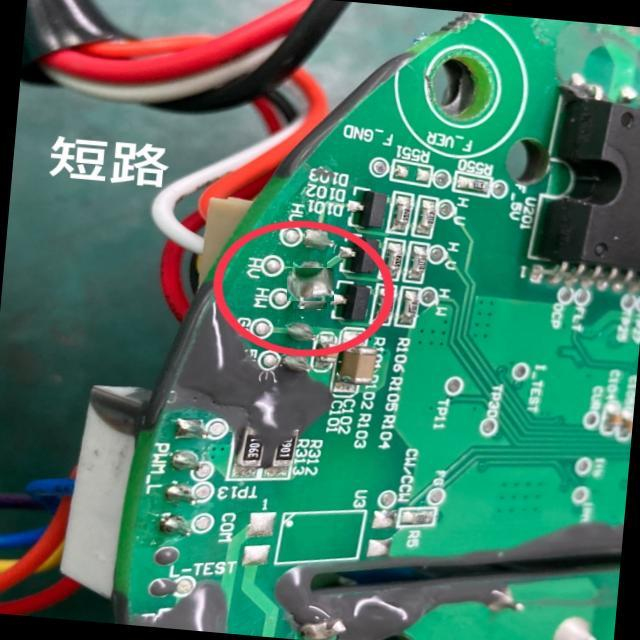Short_circuit: (287, 269, 334, 300)
